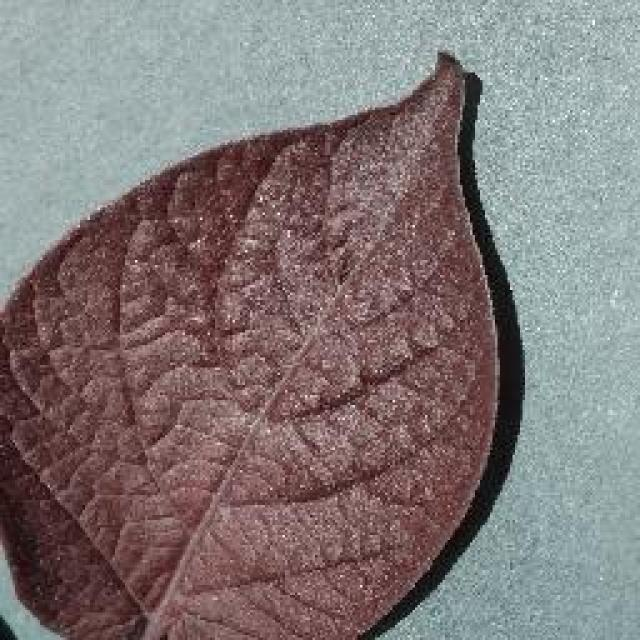Potato___healthy: (0, 45, 503, 638)
